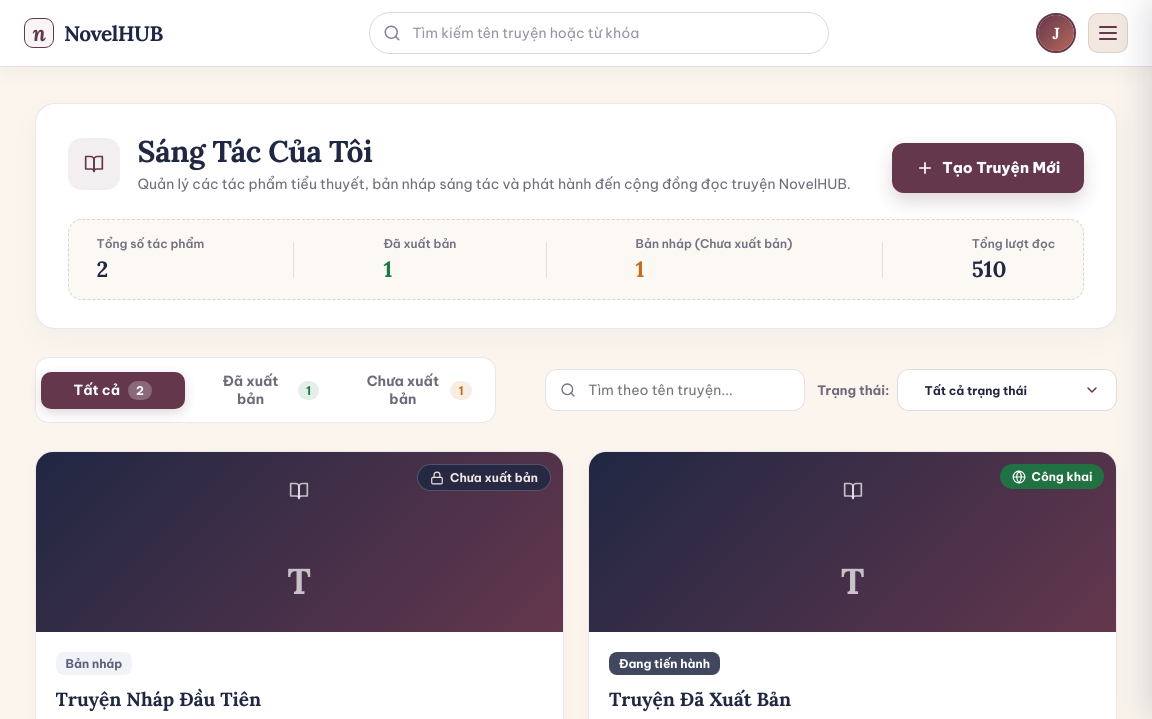
Test: AuthorCompositions Page › filters novels when clicking tabs
Expected: the heading "Truyện Nháp Đầu Tiên" is shown, 56,687 -> 261,711
Click "Đã xuất bản" tab
Click the button "Đã xuất bản 1" at (265, 390), box 193,363 -> 337,417
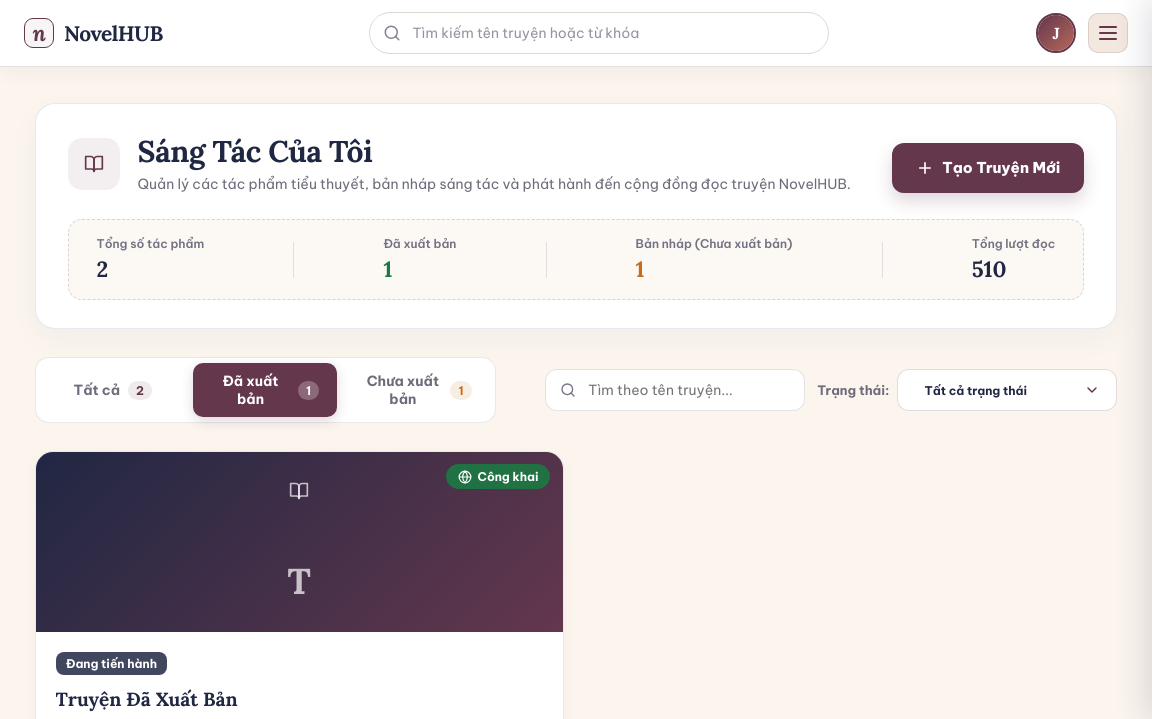
Expected: the heading "Truyện Đã Xuất Bản" is shown, 56,687 -> 238,711
Expected: the heading "Truyện Nháp Đầu Tiên" is gone
Click "Chưa xuất bản" tab
Click the button "Chưa xuất bản 1" at (418, 390), box 345,363 -> 490,417
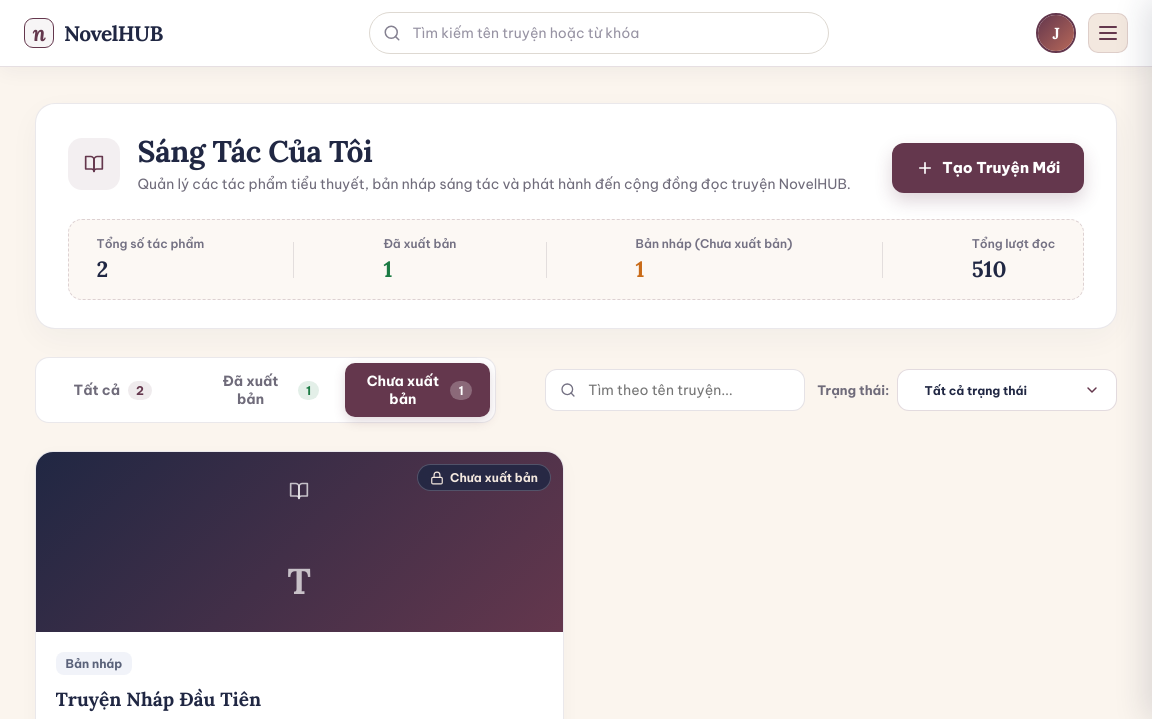
Expected: the heading "Truyện Nháp Đầu Tiên" is shown, 56,687 -> 261,711
Expected: the heading "Truyện Đã Xuất Bản" is gone
